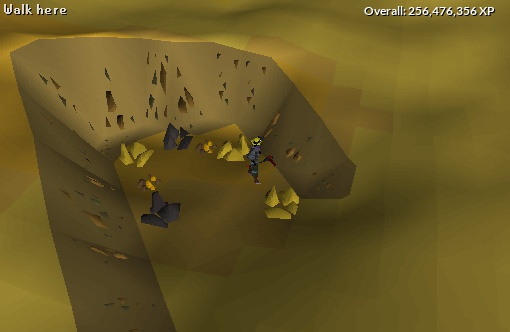depleted: (138, 187, 189, 230), (160, 119, 199, 155)
gold: (252, 179, 308, 228), (211, 130, 258, 166), (114, 137, 161, 170)
